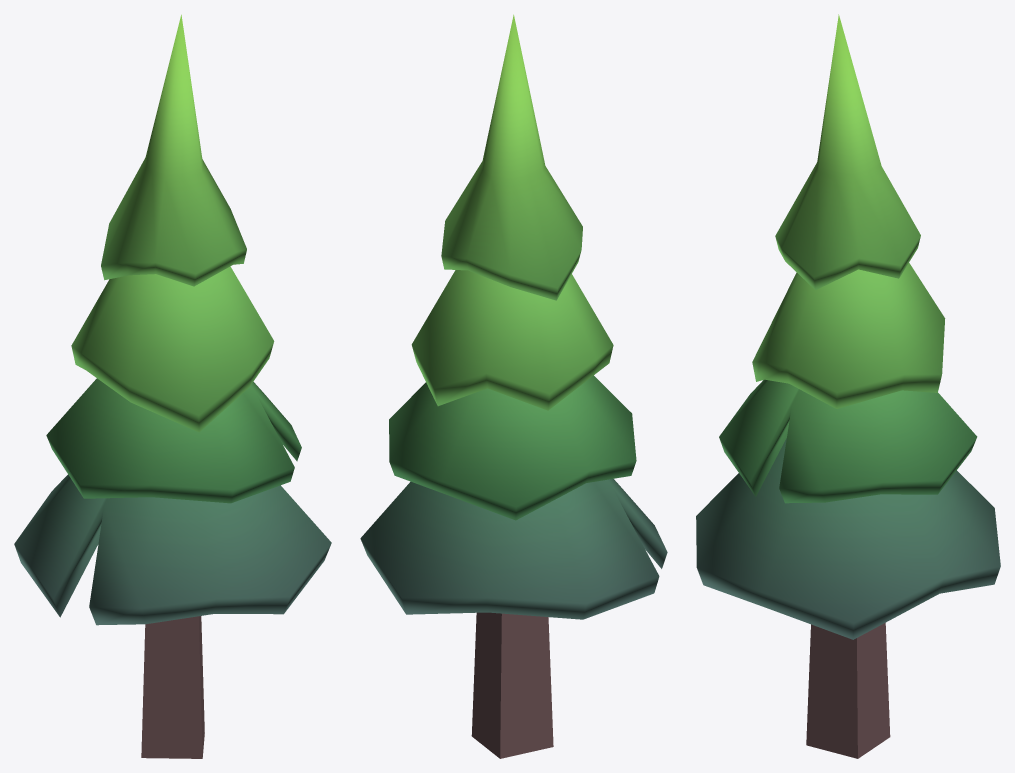
File: Tree Small.fbx
3 renders of one model, left to right at view 1: azimuth 30°, elevation 25°; view 2: azimuth 150°, elevation 25°; view 3: azimuth 270°, elevation 25°, orthographic.
Parts seen in each view (by area): view 1: Tree Small; view 2: Tree Small; view 3: Tree Small.
Part boxes in pixels (bbox=[...]): Tree Small: bbox=[14, 14, 331, 758]; Tree Small: bbox=[360, 14, 667, 758]; Tree Small: bbox=[696, 14, 1000, 758].
Bounding box in the file's own units: 239 × 621 × 235.
